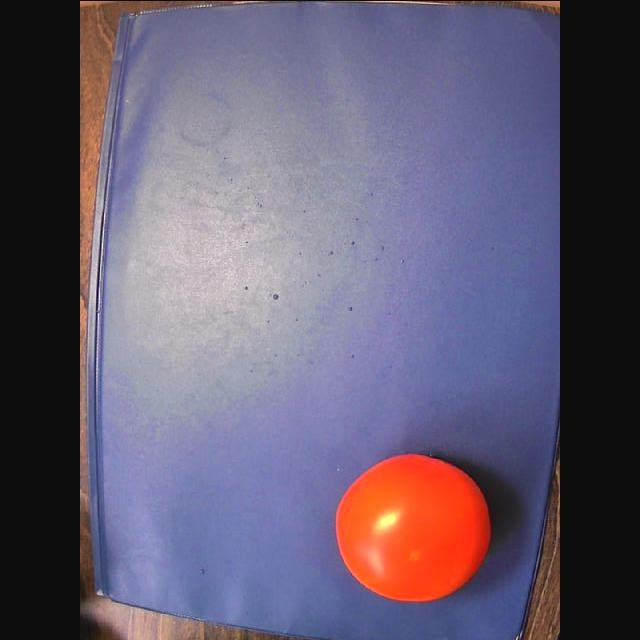tomate: (336, 453, 491, 600)
